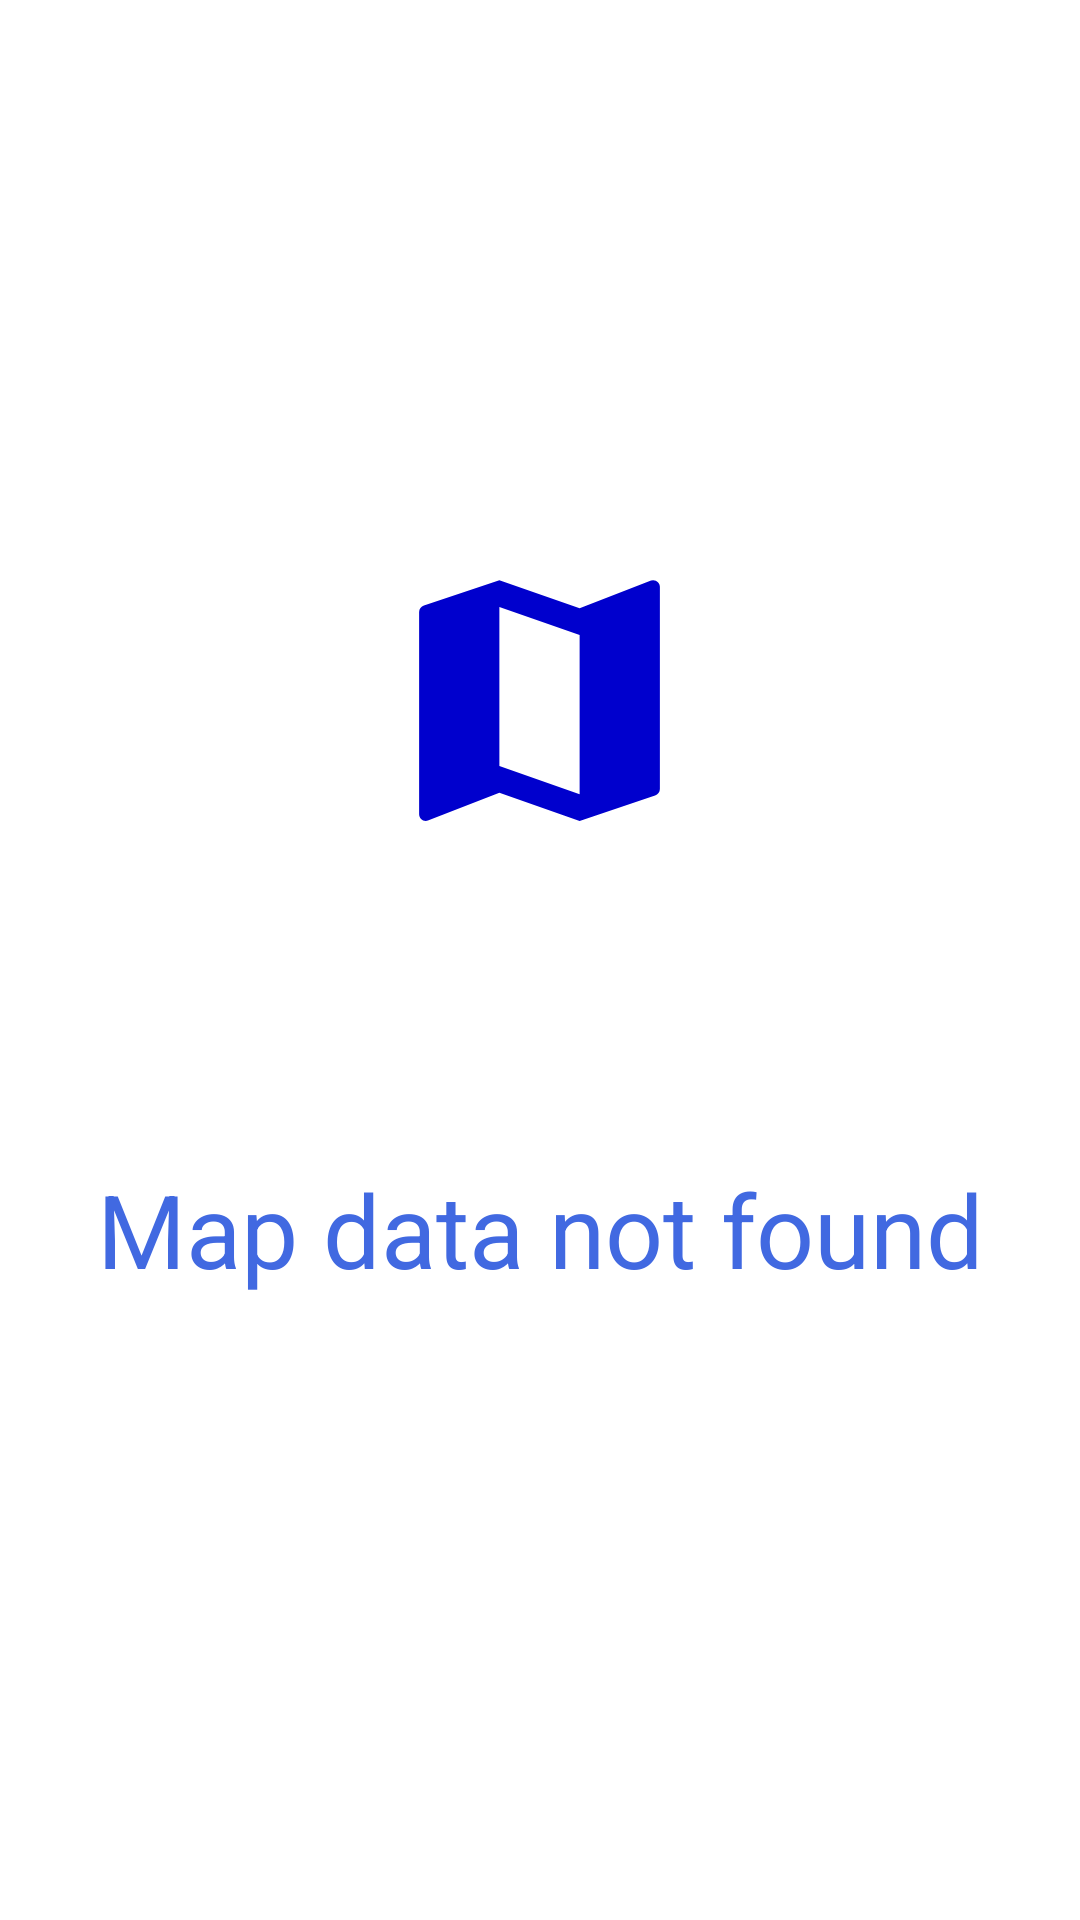

Where to tap for icons on this 1080px×1920px app screen, as [x,y]:
map: [539,700]
